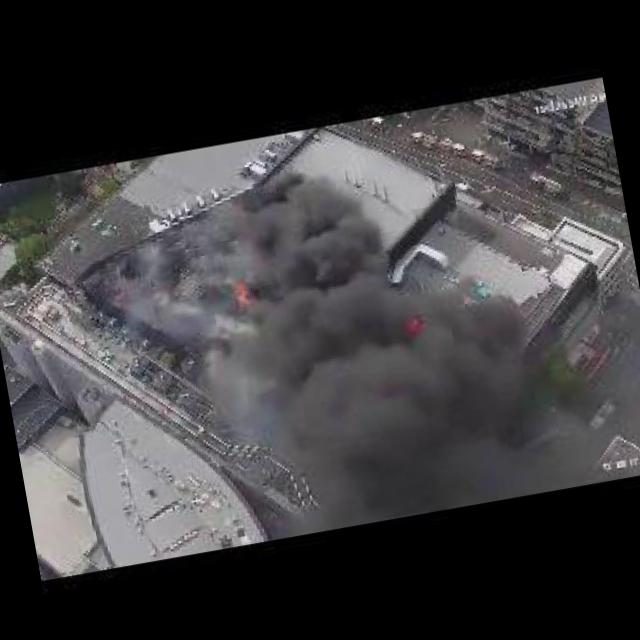fire: (232, 283, 253, 308)
smoke: (103, 130, 608, 558)
